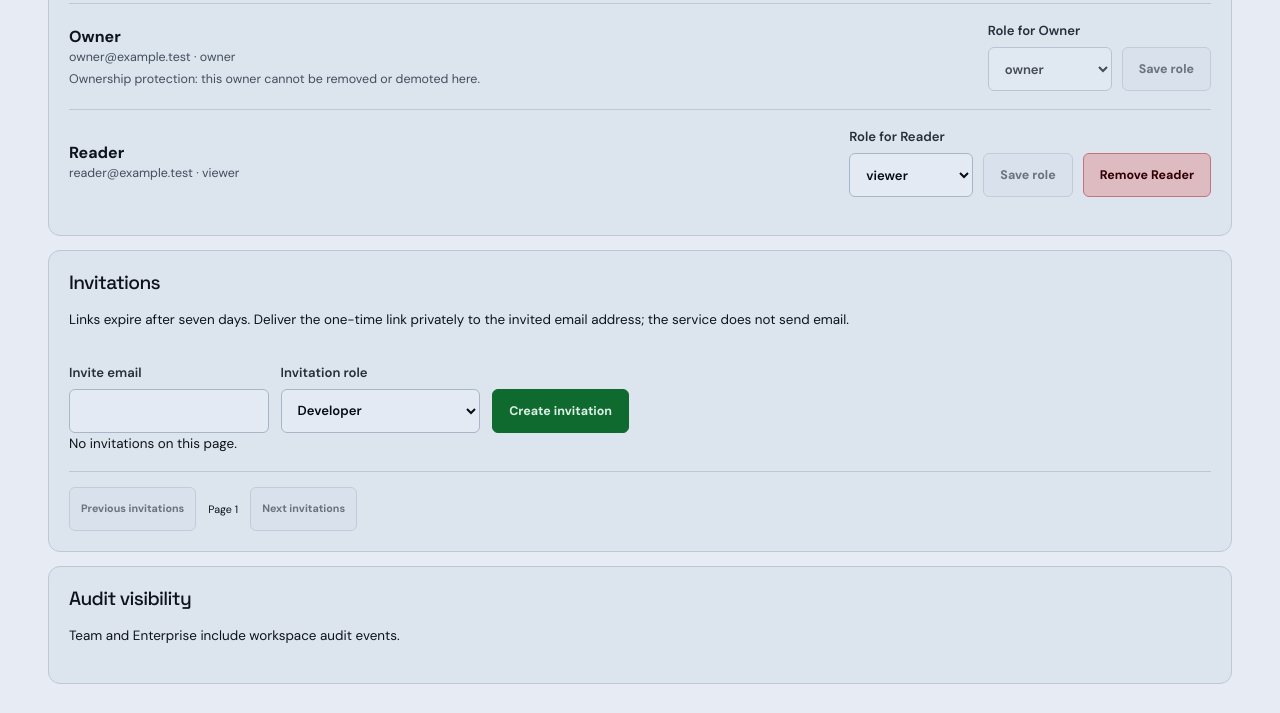
Scenario: team management › displays the manual delivery URL only after creation and can dismiss it
(page scrolled)
Type "invited@example.test" into the field labelled "Invite email" at (169, 411), box [69,389,269,433]
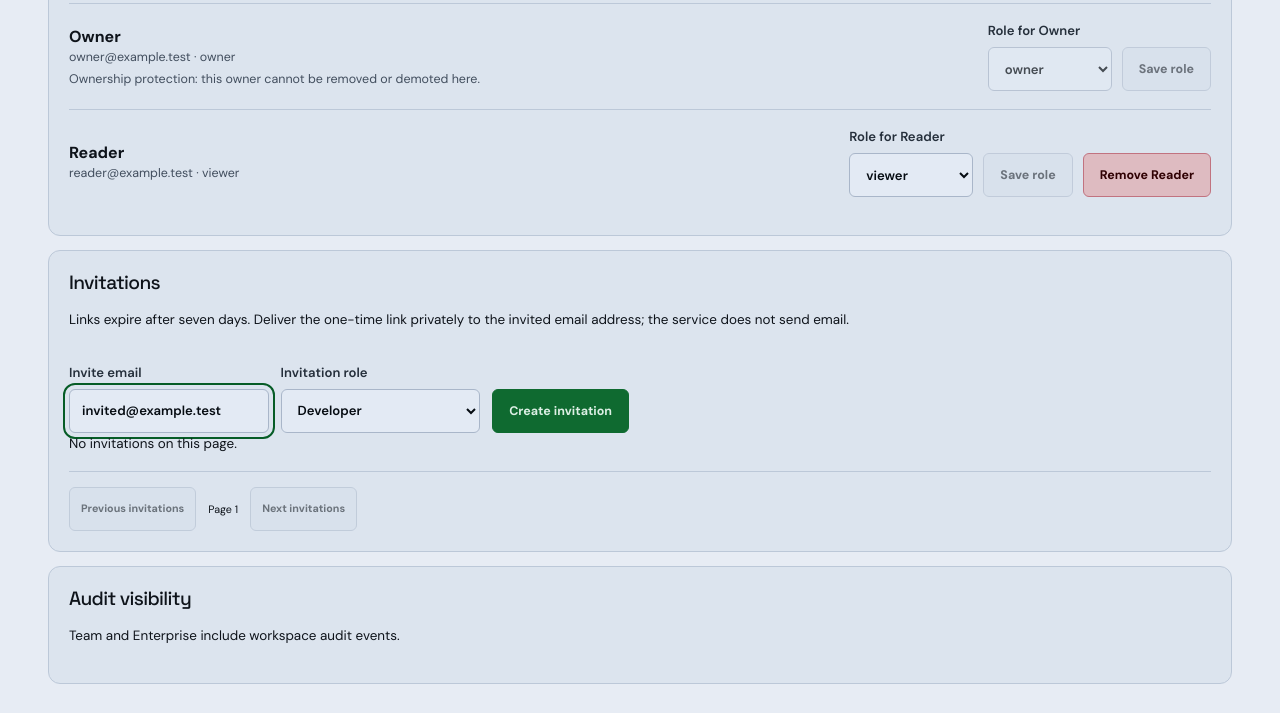
Select "Viewer" in the dropdown labelled "Invitation role" at (380, 411), box [281,389,480,433]
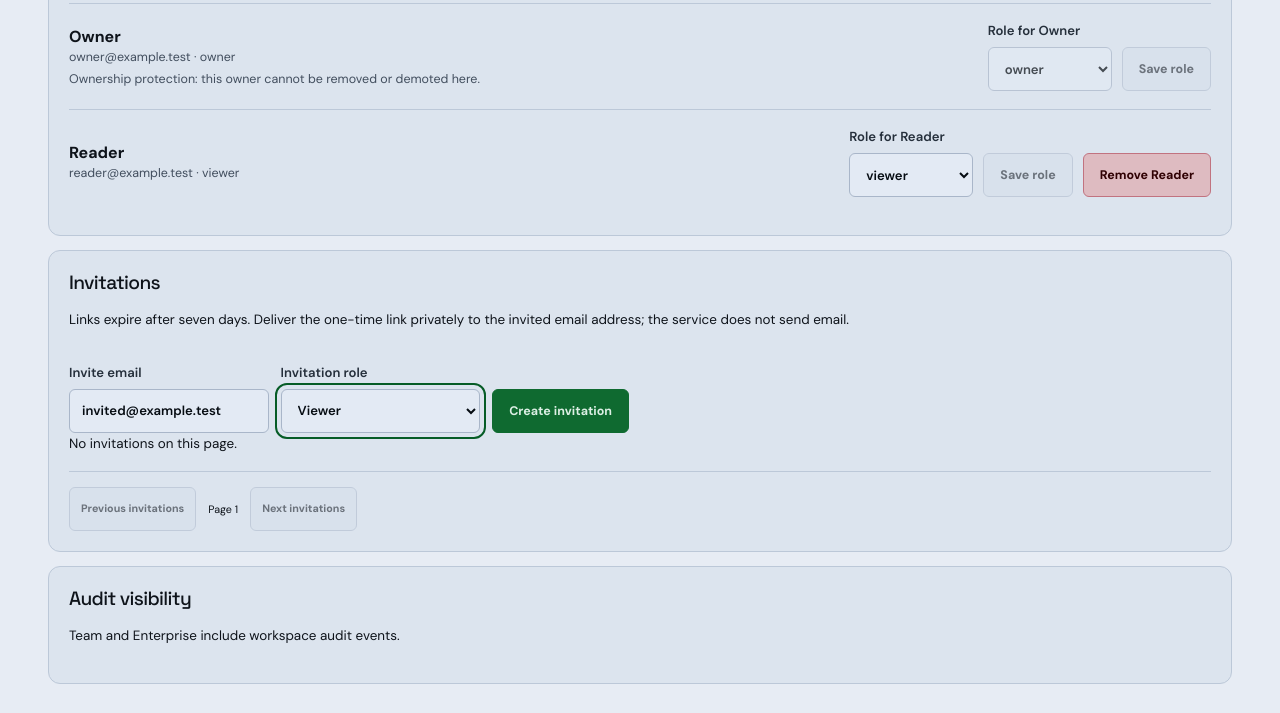
Click the button "Create invitation" at (561, 411), box [492,389,629,433]
(page scrolled)
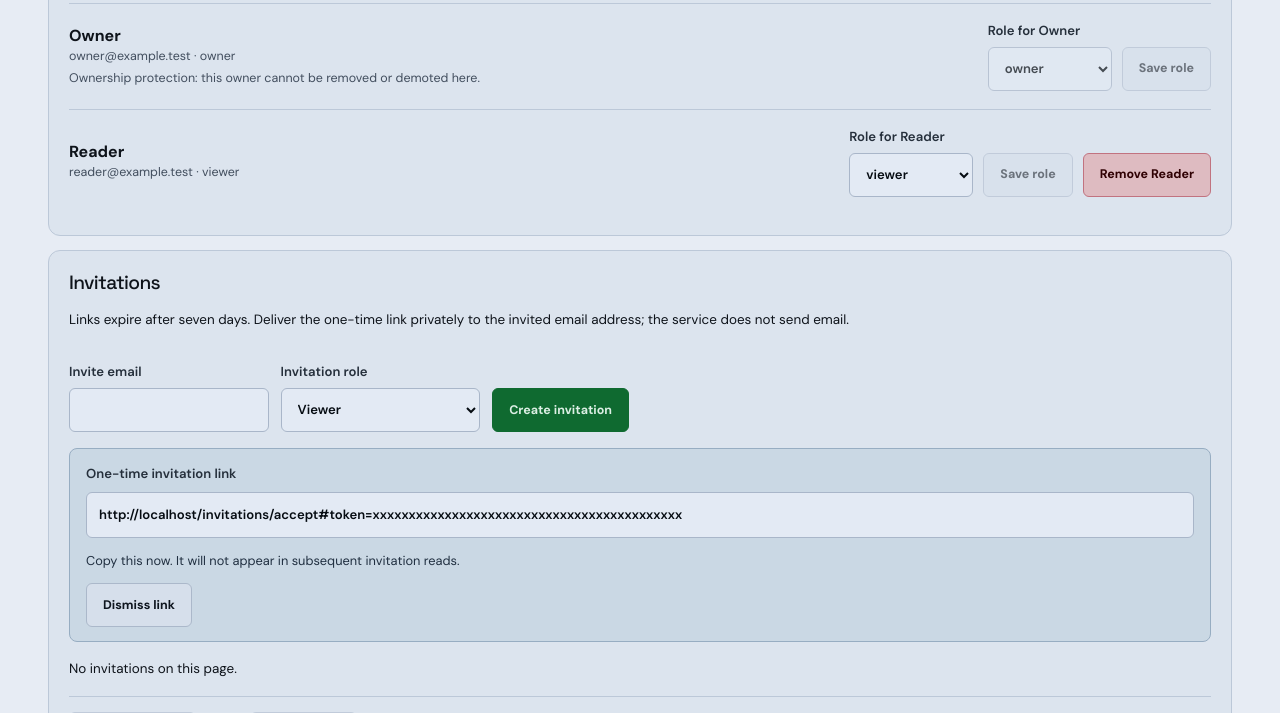
Click the button "Dismiss link" at (139, 605), box [86,583,192,627]
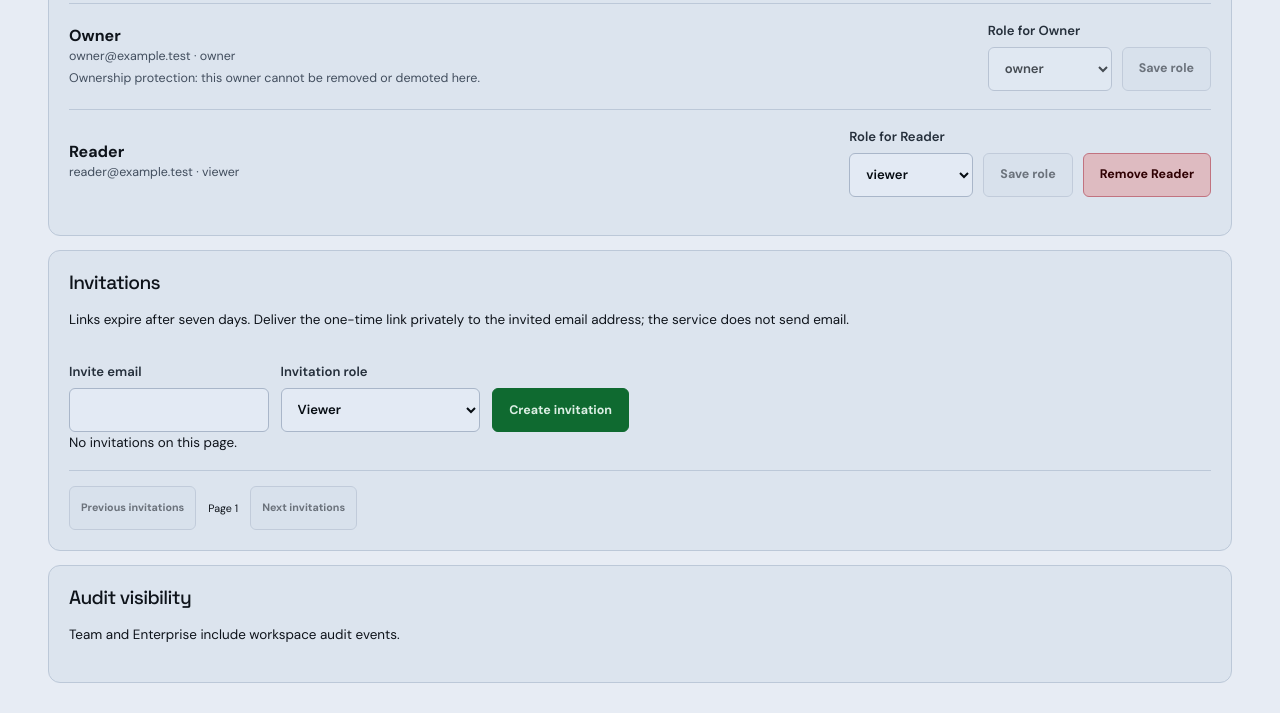
Expected: the label labelled "One-time invitation link" is gone
